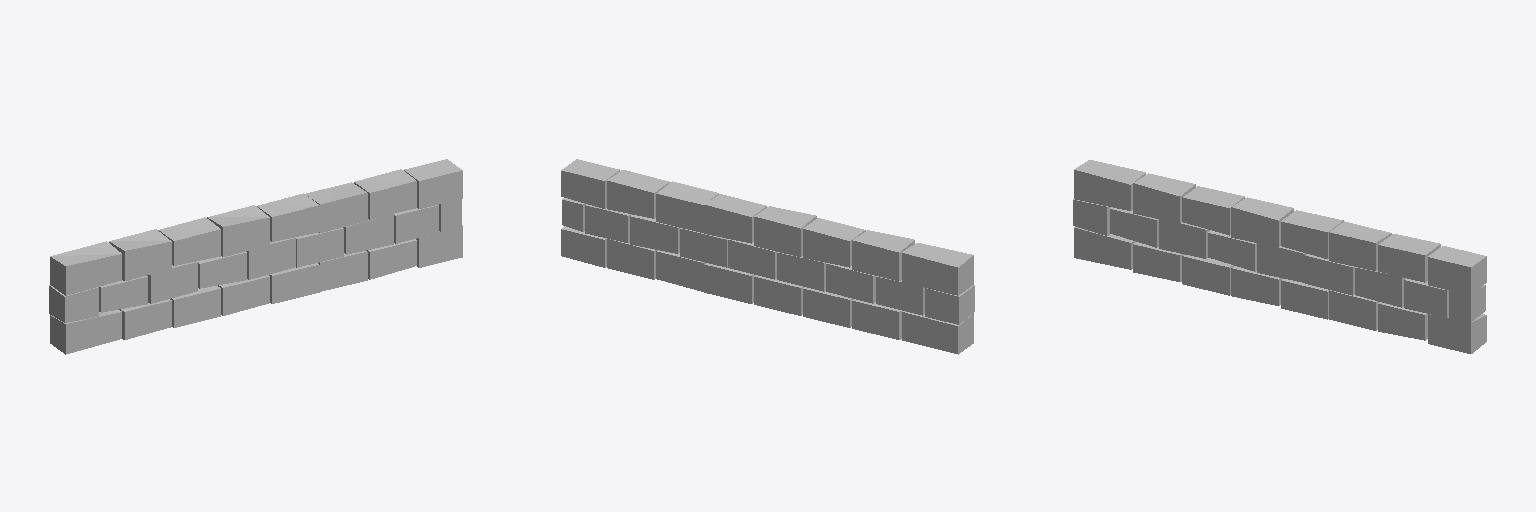
The model's file is StoneWall.obj.
3 views of the same model, side by side, from view 1: azimuth 30°, elevation 25°; view 2: azimuth 150°, elevation 25°; view 3: azimuth 330°, elevation 25° (orthographic).
Visible parts, largest first — view 1: Bricks_Small_Cube.014; view 2: Bricks_Small_Cube.014; view 3: Bricks_Small_Cube.014.
Boxes of the visible parts, x1,y1,x2,y2 form: Bricks_Small_Cube.014: [49, 159, 462, 354]; Bricks_Small_Cube.014: [561, 159, 974, 354]; Bricks_Small_Cube.014: [1073, 160, 1486, 353].
Bounding box in the file's own units: 2.01 × 0.4318 × 0.1364.